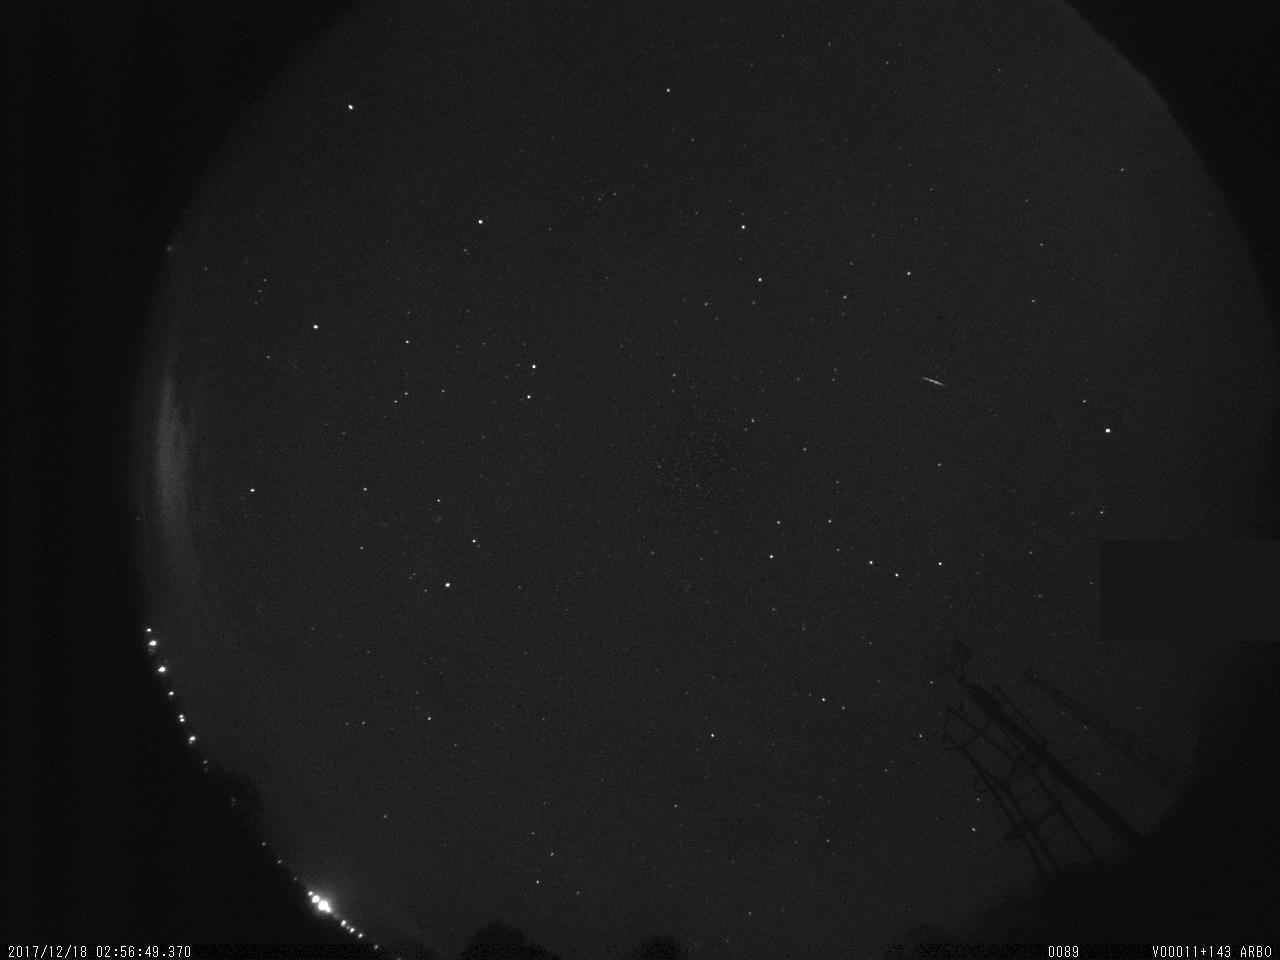Meteor: (918, 372, 949, 388)
